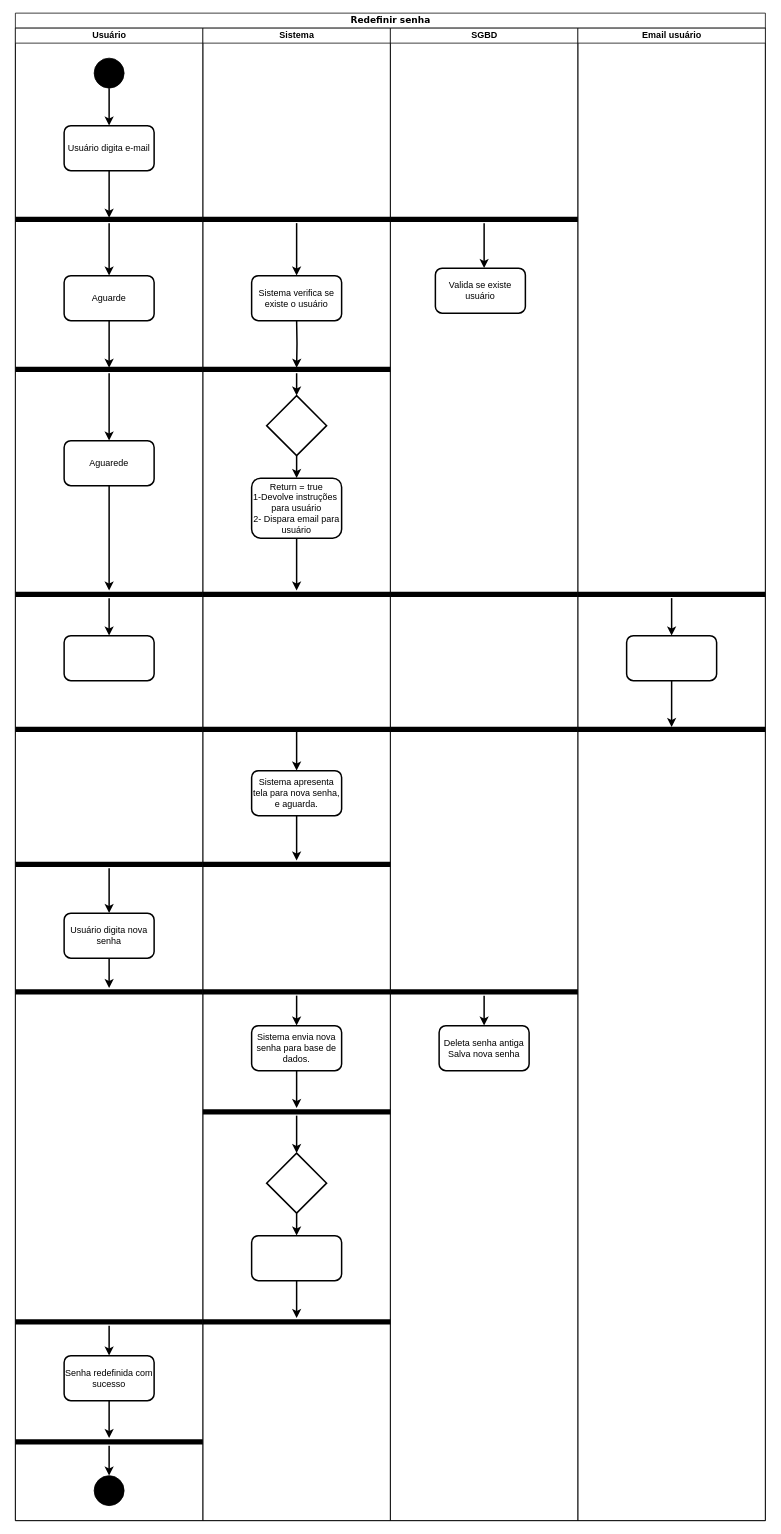
Image size: 781x1534. Some labels were removed from this diagram. Here are the shapes that lost their labels. From the top down, the centre of each, then its label:
At [296,425]: "! Existe Usuário".
At [108,657]: "Você recebera uma e-mail com link para redefinir a senha".
At [671,657]: "Link para redefinir a senha".
At [296,1183]: "Nova senha cadastrada".
At [296,1257]: "Return = true Devolve status para usuário".
